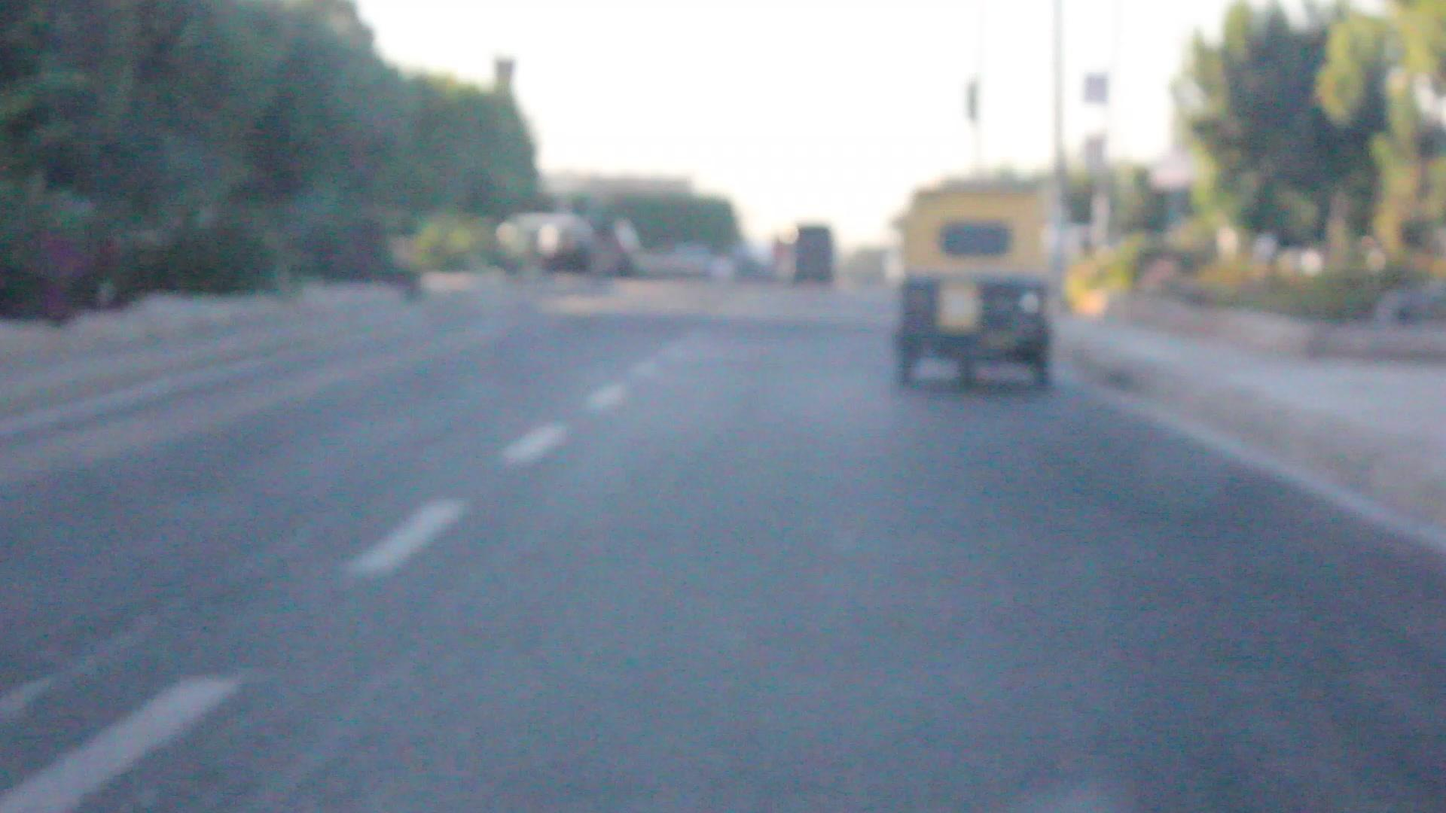Bump: (557, 311, 894, 337)
